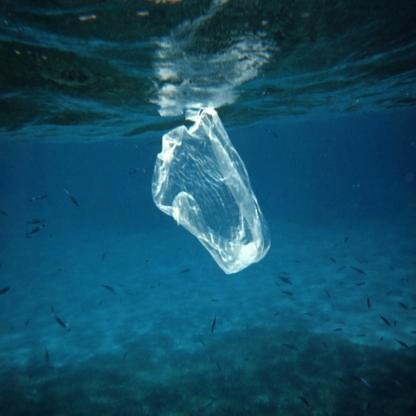pbag: (147, 102, 275, 278)
